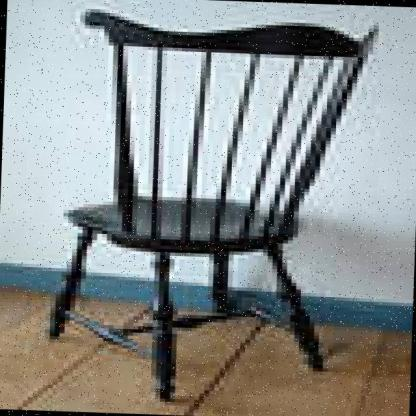Chair: (45, 0, 385, 416)
